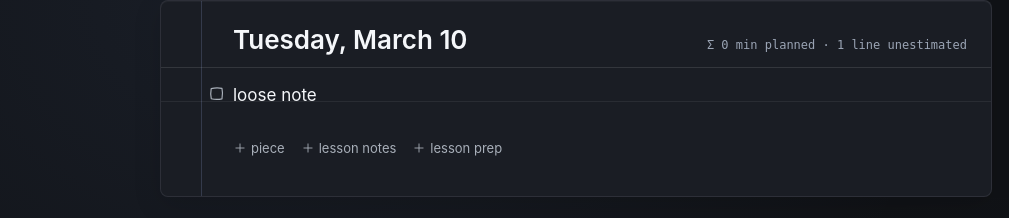
Test: DaySheet — goal promotion (spec 13) › disables the goal chip on an item with no piece heading above it
The image size is (1009, 218).
Step 1. Focus the text box showing "loose note" → (600, 95), box [233, 80, 967, 110]
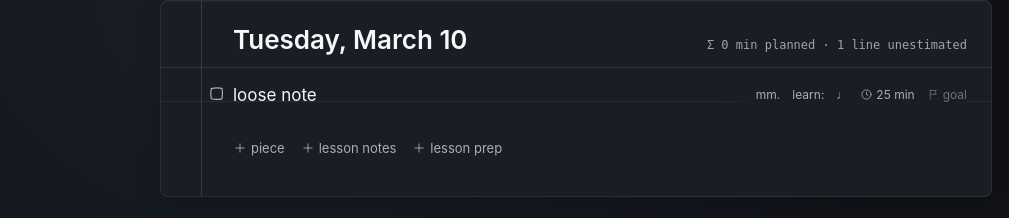
Check: the button "goal" is disabled, box [927, 88, 967, 101]
